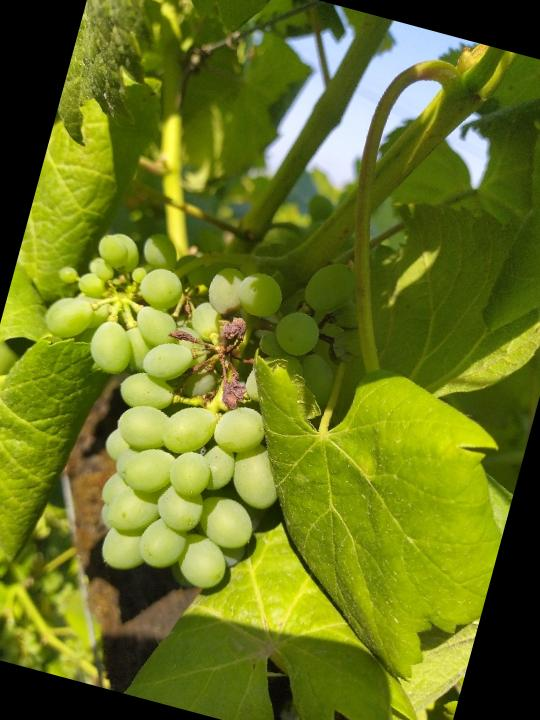grape: (0, 182, 387, 621)
